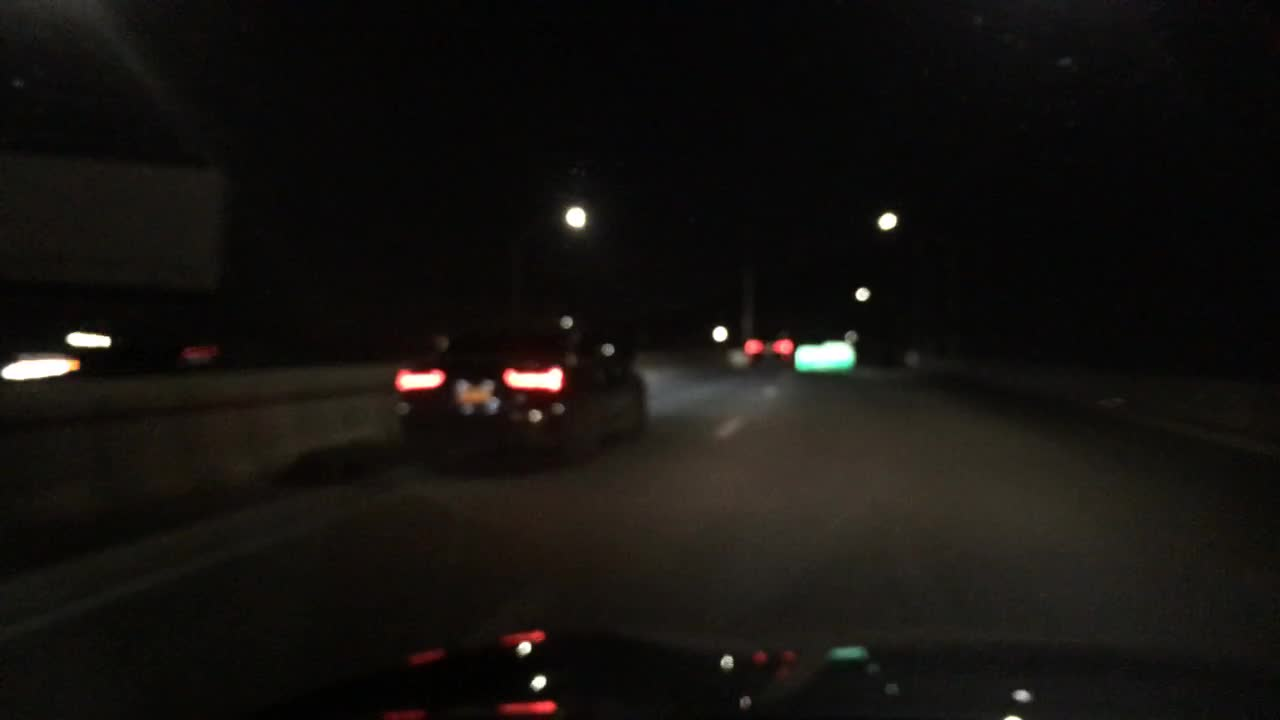car: (396, 314, 645, 460), (36, 323, 227, 376), (794, 342, 852, 375), (743, 335, 792, 365)
